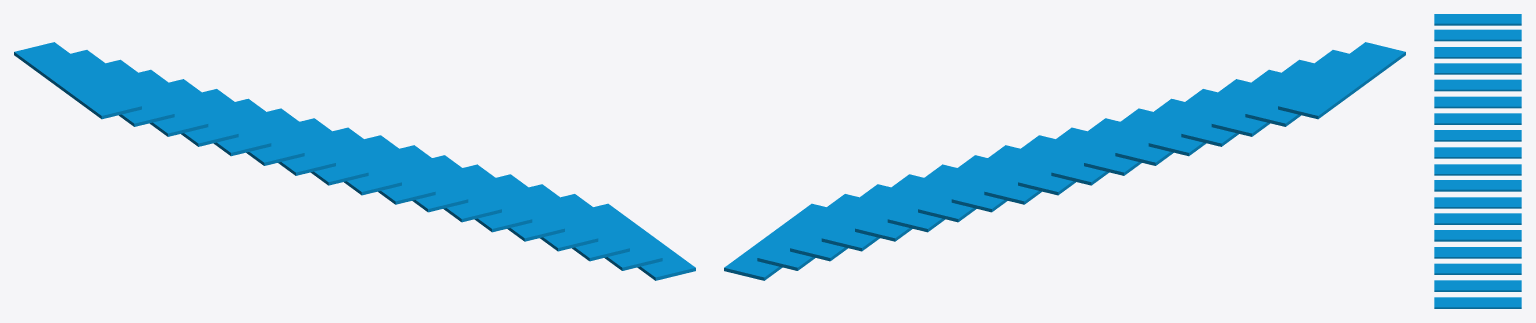
File: Metal_Stairs_01.fbx
3 renders of one model, left to right at view 1: azimuth 30°, elevation 25°; view 2: azimuth 150°, elevation 25°; view 3: azimuth 270°, elevation 25°, orthographic. The views are drawn at different scales.
Visible parts, largest first — view 1: Metal_Stairs_01; view 2: Metal_Stairs_01; view 3: Metal_Stairs_01.
Boxes of the visible parts, x1,y1,x2,y2 form: Metal_Stairs_01: (14, 42, 695, 280); Metal_Stairs_01: (724, 42, 1405, 280); Metal_Stairs_01: (1434, 14, 1521, 308).
Bounding box in the file's own units: 586 × 283 × 150.
